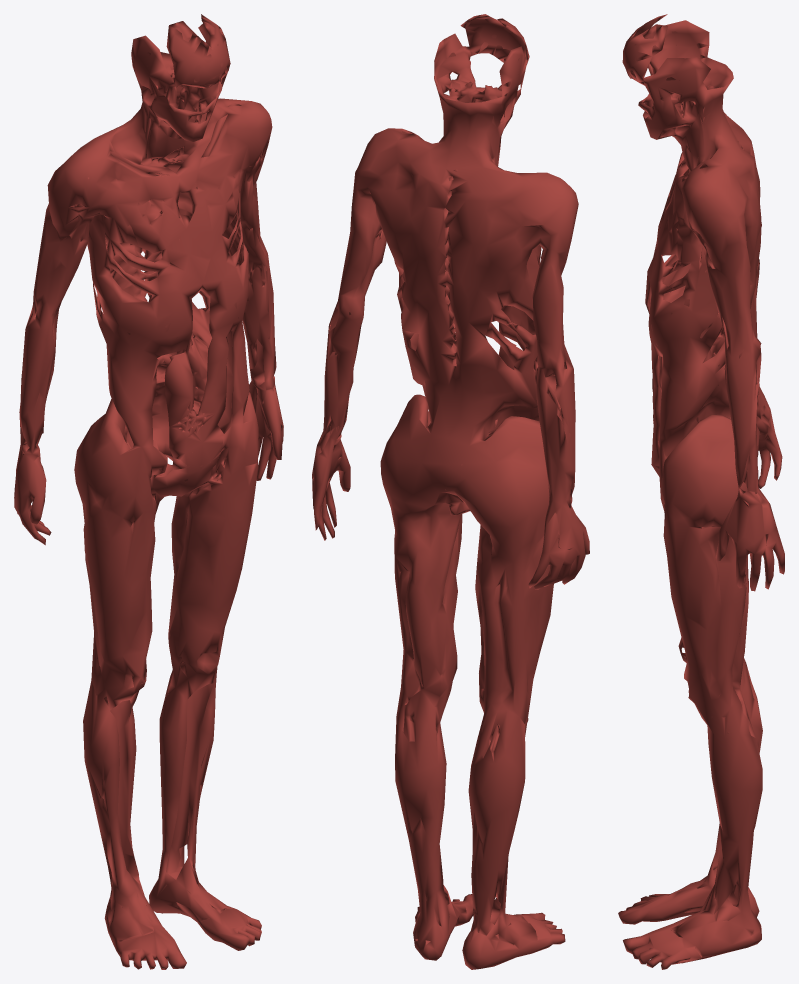
File: icrp_adult_female.muscular.LOD3.glb
The picture shows the model from 3 angles, left to right: view 1: azimuth 30°, elevation 25°; view 2: azimuth 150°, elevation 25°; view 3: azimuth 270°, elevation 25°; orthographic projection.
Visible parts, largest first — view 1: ICRP.ADULT.FEMALE.MUSCULAR.MUSCLE; view 2: ICRP.ADULT.FEMALE.MUSCULAR.MUSCLE; view 3: ICRP.ADULT.FEMALE.MUSCULAR.MUSCLE.
Boxes of the visible parts, <box> form: ICRP.ADULT.FEMALE.MUSCULAR.MUSCLE: <box>14,14,283,969</box>; ICRP.ADULT.FEMALE.MUSCULAR.MUSCLE: <box>312,14,589,969</box>; ICRP.ADULT.FEMALE.MUSCULAR.MUSCLE: <box>618,14,784,969</box>.
Bounding box in the file's own units: 0.4881 × 1.62 × 0.2675.
